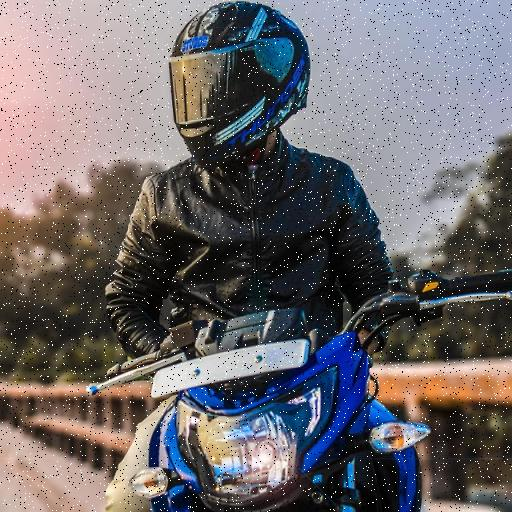Helmet: (163, 17, 336, 180)
Motor: (108, 306, 468, 512)
